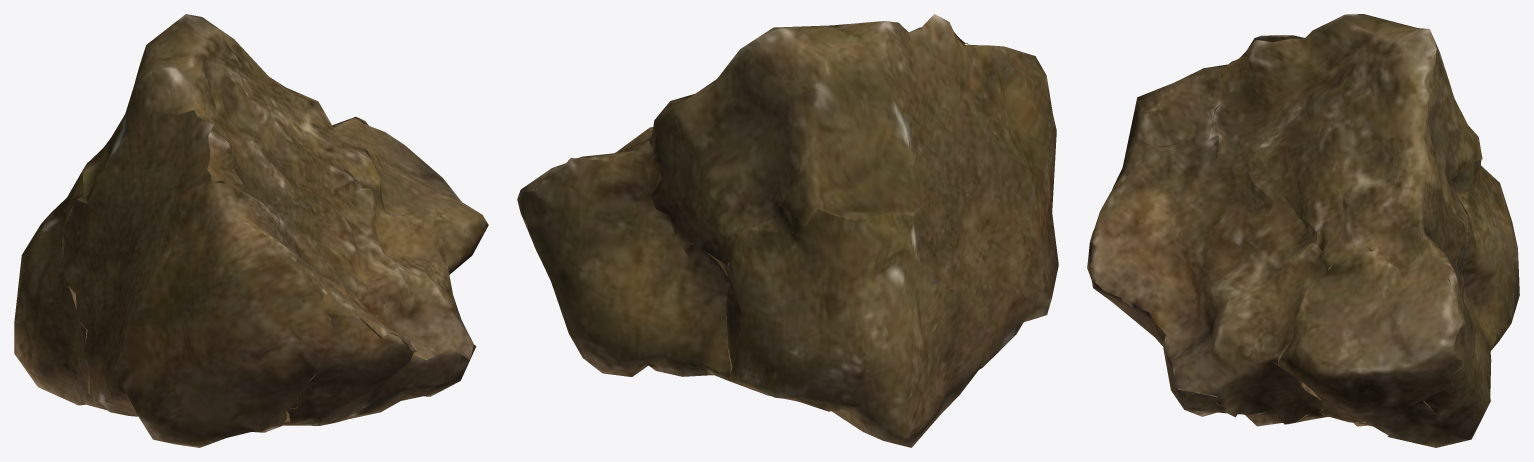
The model's file is rock_moss_set_01_3.glb.
3 views of the same model, side by side, from view 1: azimuth 30°, elevation 25°; view 2: azimuth 150°, elevation 25°; view 3: azimuth 270°, elevation 25° (orthographic). The views are drawn at different scales.
Parts seen in each view (by area): view 1: rock_moss_set_01_rock04; view 2: rock_moss_set_01_rock04; view 3: rock_moss_set_01_rock04.
Part boxes in pixels (left/top/right/bottom): rock_moss_set_01_rock04: left=14, top=14, right=488, bottom=447; rock_moss_set_01_rock04: left=517, top=14, right=1058, bottom=447; rock_moss_set_01_rock04: left=1087, top=14, right=1519, bottom=447.
Bounding box in the file's own units: 2.13 × 1.76 × 1.98.
1 material, 1 textured.
